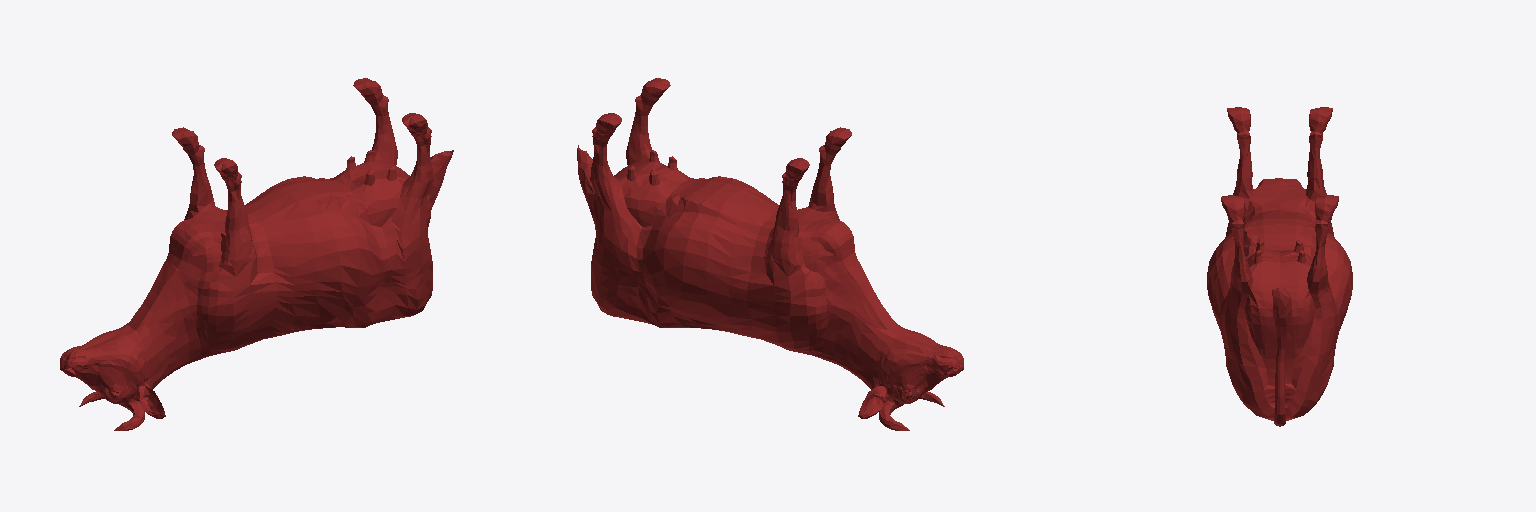
File: sadCow.obj
The picture shows the model from 3 angles: view 1: azimuth 30°, elevation 25°; view 2: azimuth 150°, elevation 25°; view 3: azimuth 270°, elevation 25°; orthographic projection.
Parts seen in each view (by area): view 1: Object.1; view 2: Object.1; view 3: Object.1.
Boxes of the visible parts, box(x1,y1,x2,y2) form: Object.1: box(60, 78, 453, 430); Object.1: box(577, 78, 963, 430); Object.1: box(1207, 107, 1352, 426).
Bounding box in the file's own units: 117 × 71.62 × 38.1.